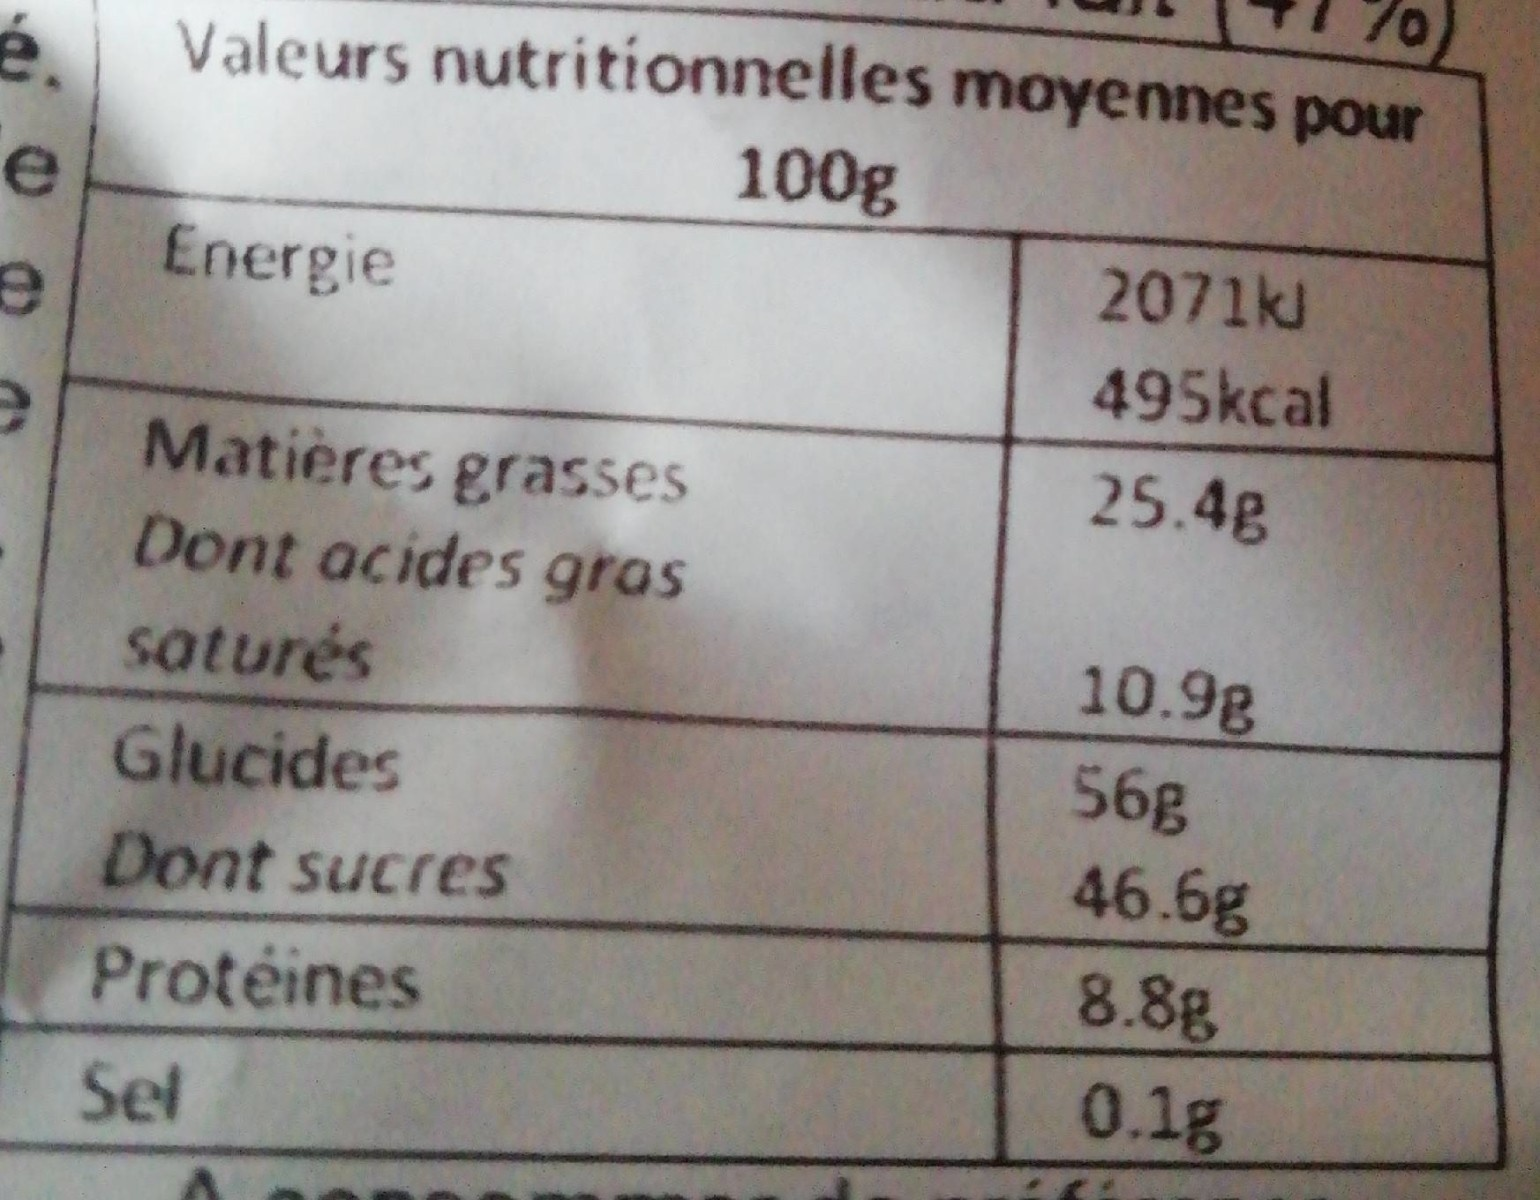column: (82, 221, 692, 1124), (1071, 260, 1335, 1160)
table: (16, 1, 1510, 1177)
